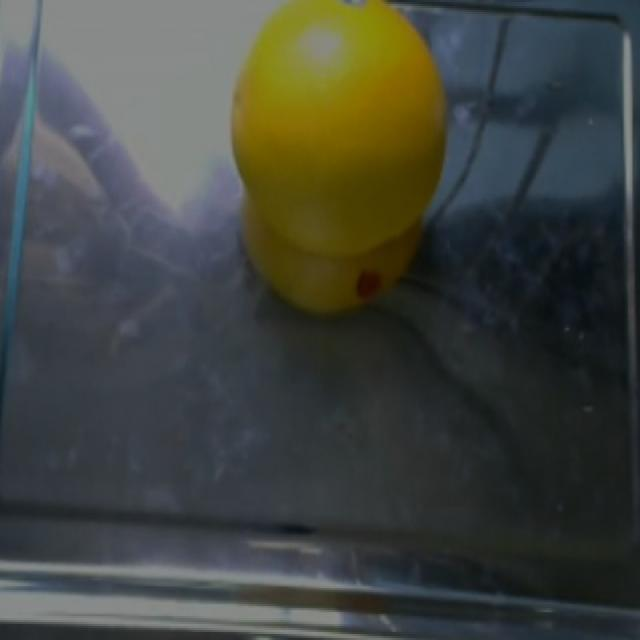Fruit: (219, 0, 460, 334)
